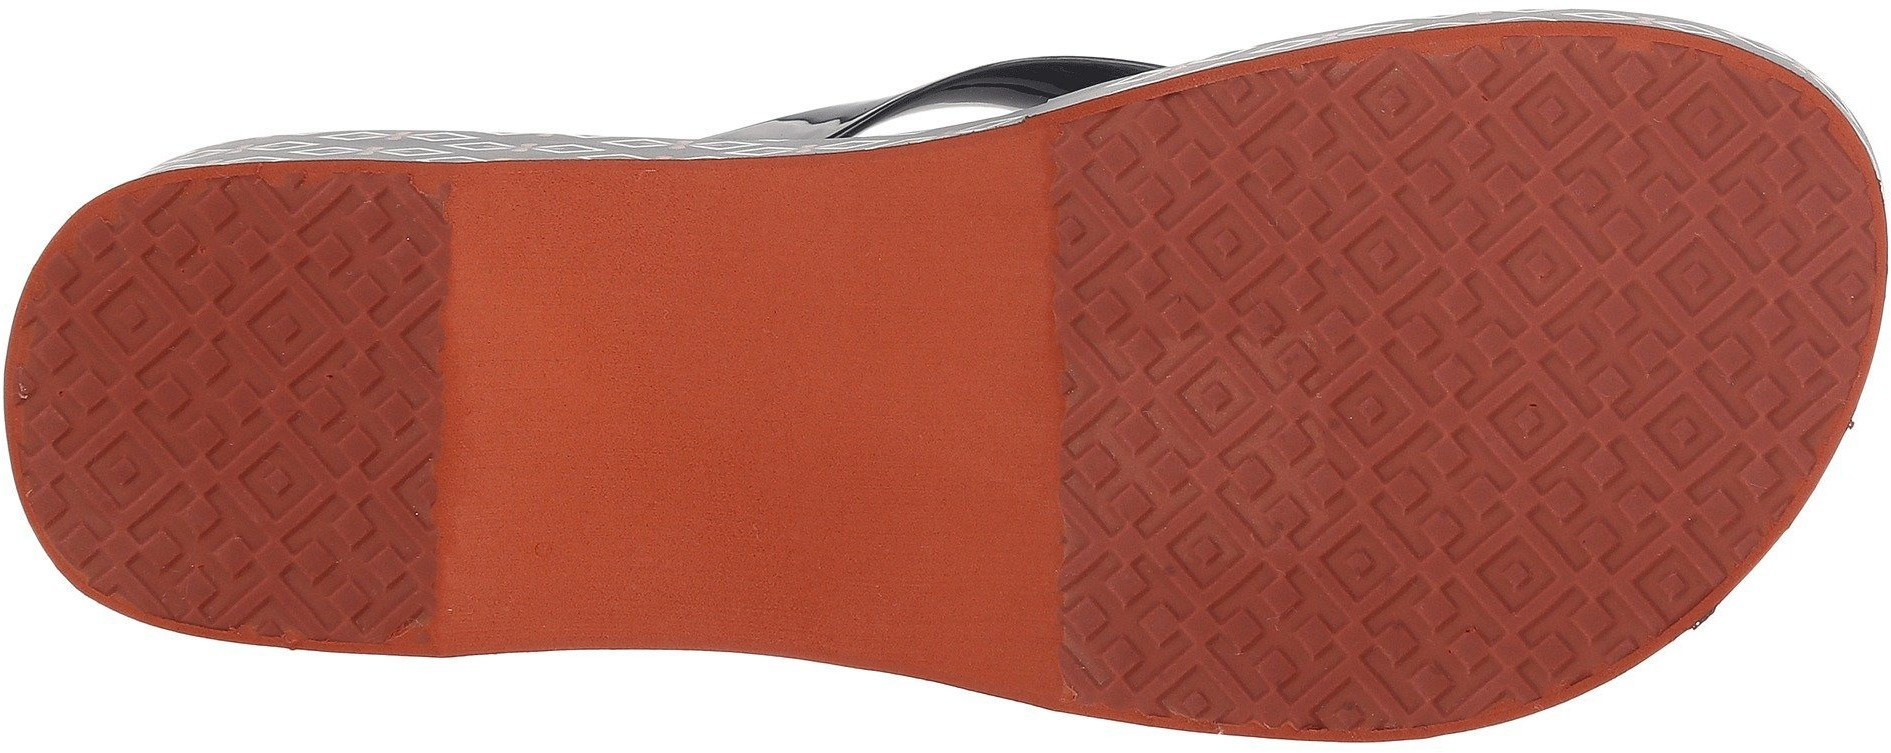other: (745, 174, 1013, 440), (462, 171, 728, 431), (824, 451, 1040, 650), (474, 440, 668, 627), (677, 469, 820, 615)
quad: (1555, 72, 1798, 320), (1299, 69, 1544, 300), (1073, 367, 1327, 582), (193, 401, 432, 618), (1067, 128, 1288, 358), (1557, 329, 1769, 561), (215, 177, 437, 393), (1331, 307, 1548, 504), (1337, 510, 1542, 700), (27, 299, 192, 473)
